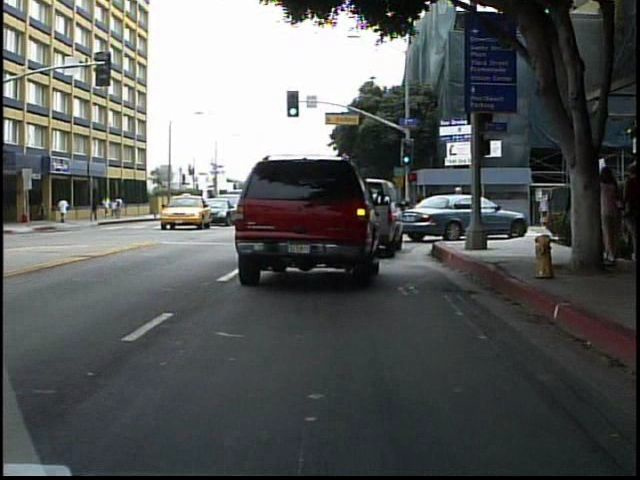person: (595, 167, 626, 266), (451, 184, 469, 230), (57, 195, 72, 227)
